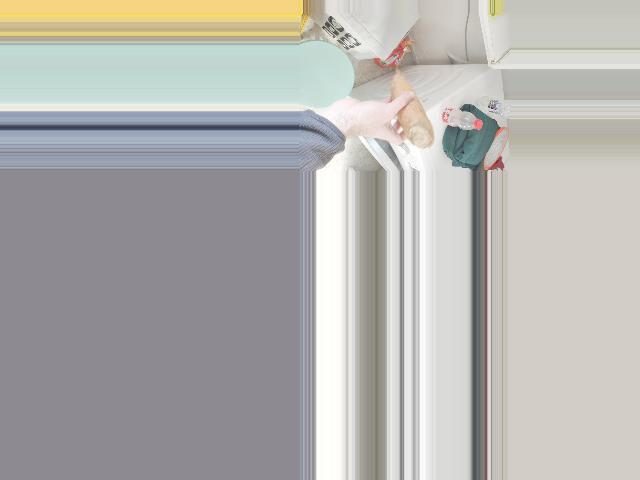sweet_potato: (384, 75, 437, 143)
